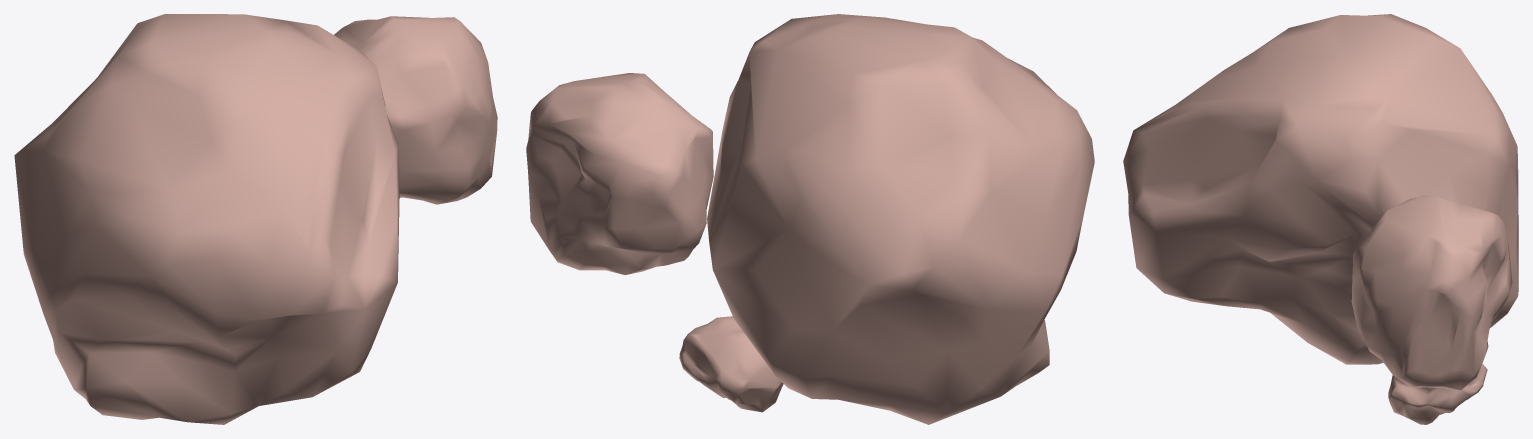
The model's file is rock-6.glb.
The picture shows the model from 3 angles, left to right: view 1: azimuth 30°, elevation 25°; view 2: azimuth 150°, elevation 25°; view 3: azimuth 270°, elevation 25°; orthographic projection. The views are drawn at different scales.
Visible parts, largest first — view 1: rock-6; view 2: rock-6; view 3: rock-6.
Boxes of the visible parts, x1,y1,x2,y2 form: rock-6: (14, 14, 497, 424); rock-6: (526, 14, 1094, 424); rock-6: (1123, 14, 1518, 424).
Bounding box in the file's own units: 0.55 × 0.407 × 0.4277.
